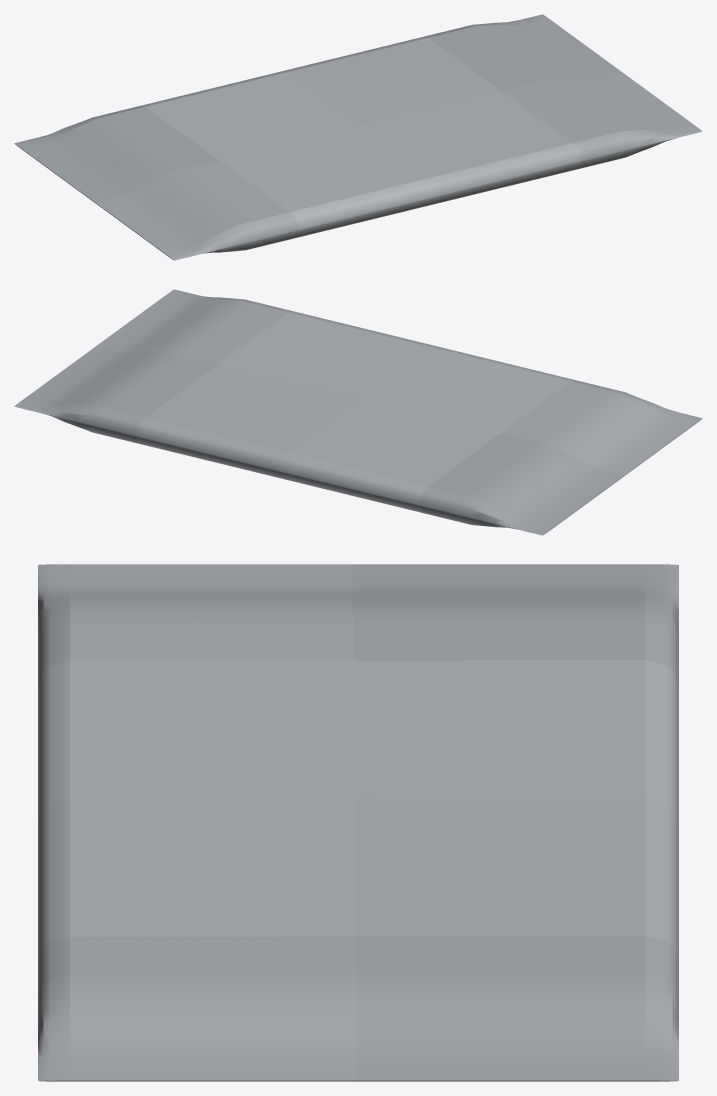
Rendered from card_pack.glb.
The picture shows the model from 3 angles, top to bottom: view 1: azimuth 30°, elevation 25°; view 2: azimuth 150°, elevation 25°; view 3: azimuth 270°, elevation 25°; orthographic projection. The views are drawn at different scales.
Visible parts, largest first — view 1: Cube.002; view 2: Cube.002; view 3: Cube.002.
Boxes of the visible parts, x1,y1,x2,y2 form: Cube.002: (14,14,702,260); Cube.002: (14,289,702,535); Cube.002: (38,564,678,1081).
Size of the model in its own units: 2.51 by 0.1136 by 1.32.
1 material, 1 textured.
